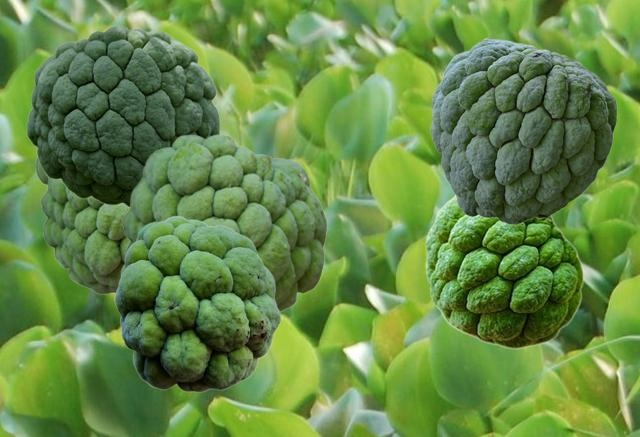atis: (121, 134, 326, 313), (26, 25, 219, 207), (430, 38, 616, 223), (114, 215, 280, 392), (425, 195, 583, 348), (40, 178, 128, 293)
